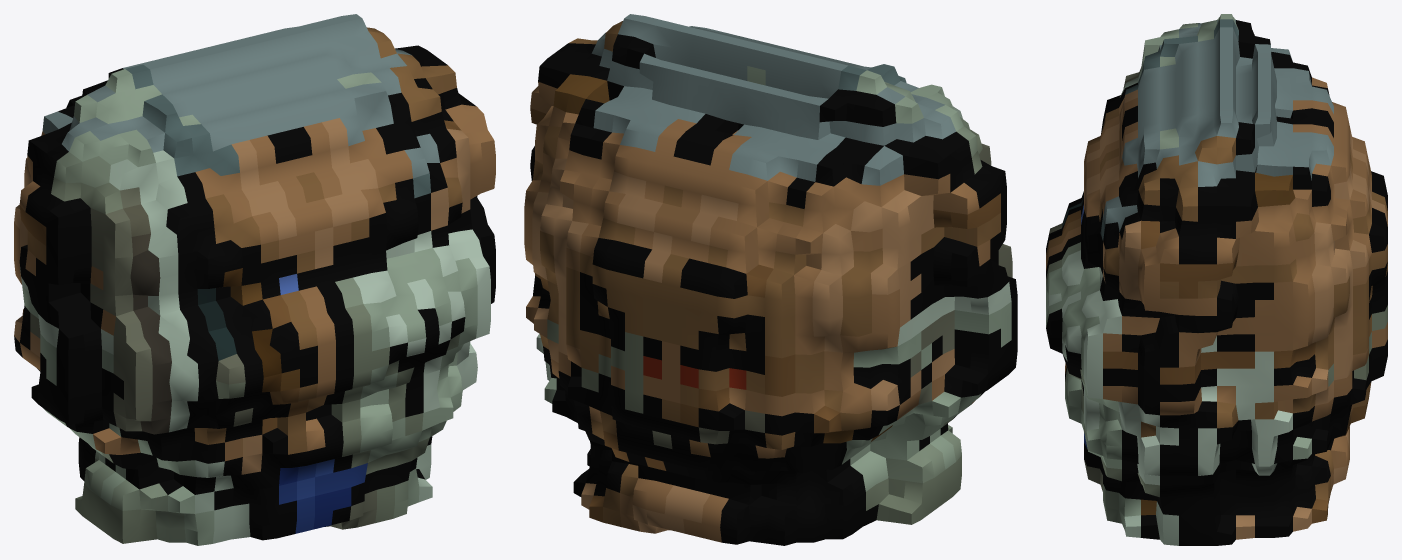
File: Icon_733_01.obj
The picture shows the model from 3 angles, left to right: view 1: azimuth 30°, elevation 25°; view 2: azimuth 150°, elevation 25°; view 3: azimuth 270°, elevation 25°; orthographic projection. The views are drawn at different scales.
Size of the model in its own units: 2.4 by 2.38 by 1.8.
1 material, 1 textured.
